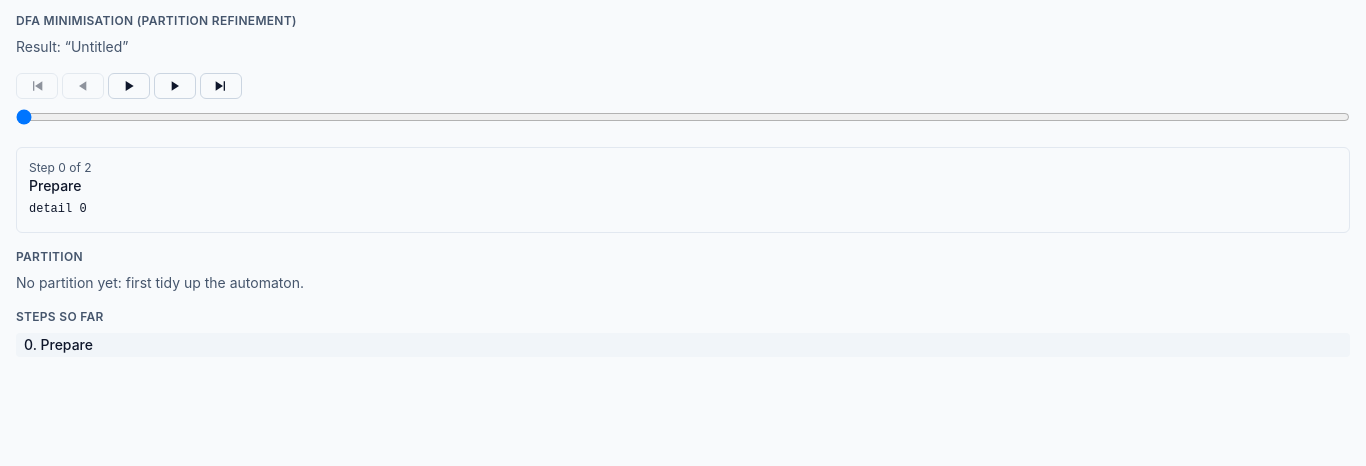
Test case: partition view › lists the blocks and counts them
Click the button named "Next step" at x=175, y=86, box [154,73,196,99]
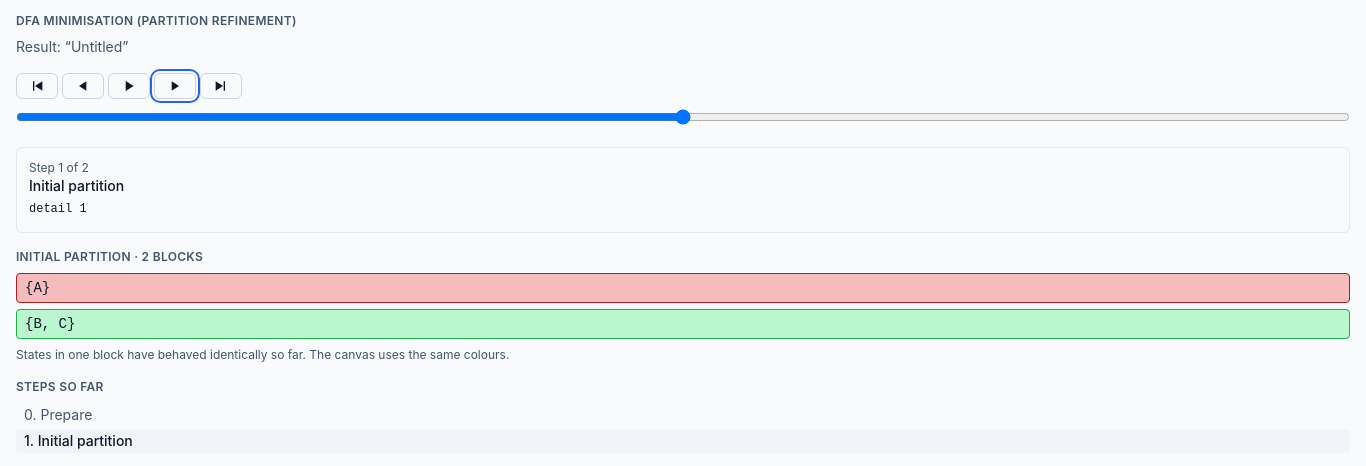
Expected: the heading "Initial partition · 2 blocks" is shown, [16,248,203,264]
